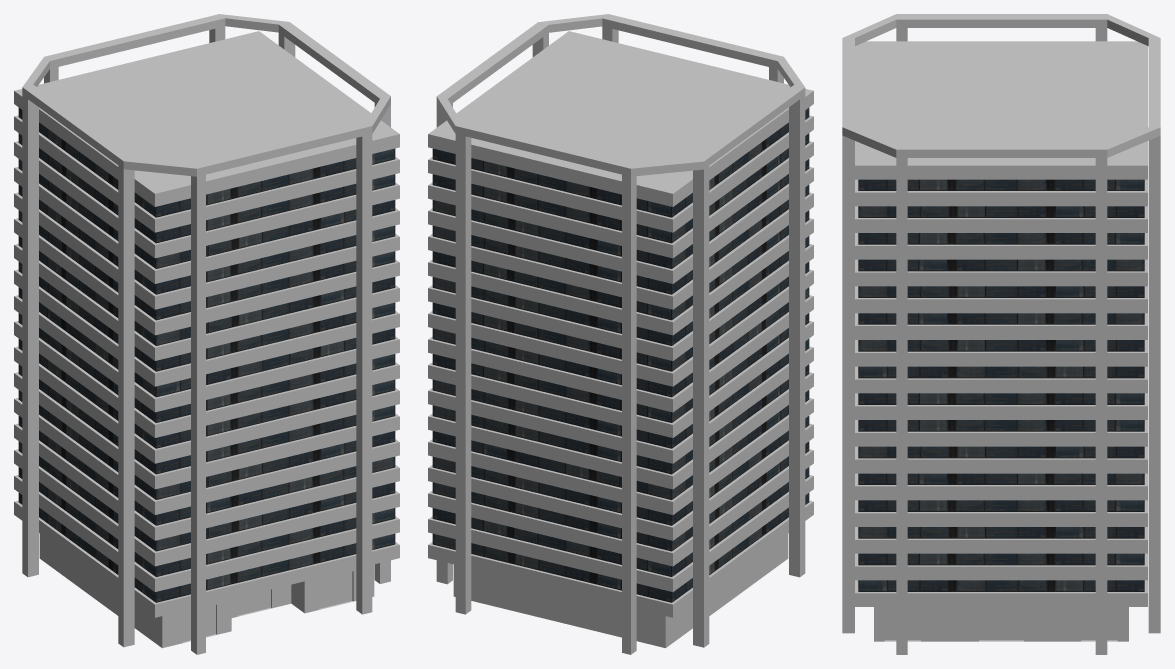
3 renders of one model, left to right at view 1: azimuth 30°, elevation 25°; view 2: azimuth 150°, elevation 25°; view 3: azimuth 270°, elevation 25°, orthographic. The views are drawn at different scales.
Visible parts, largest first — view 1: EC-012; view 2: EC-012; view 3: EC-012.
Part boxes in pixels (<box>): EC-012: <box>14,14,399,654</box>; EC-012: <box>428,14,813,654</box>; EC-012: <box>842,14,1160,654</box>.
Size of what is drawn, in the model's own units: 27.94 by 48.57 by 27.7.
